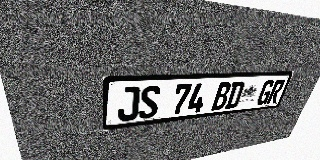4: (186, 83, 208, 114)
7: (170, 83, 192, 116)
B: (211, 81, 233, 111)
D: (224, 81, 246, 109)
G: (255, 79, 275, 106)
J: (118, 86, 140, 122)
R: (266, 79, 286, 104)
S: (138, 85, 161, 120)
